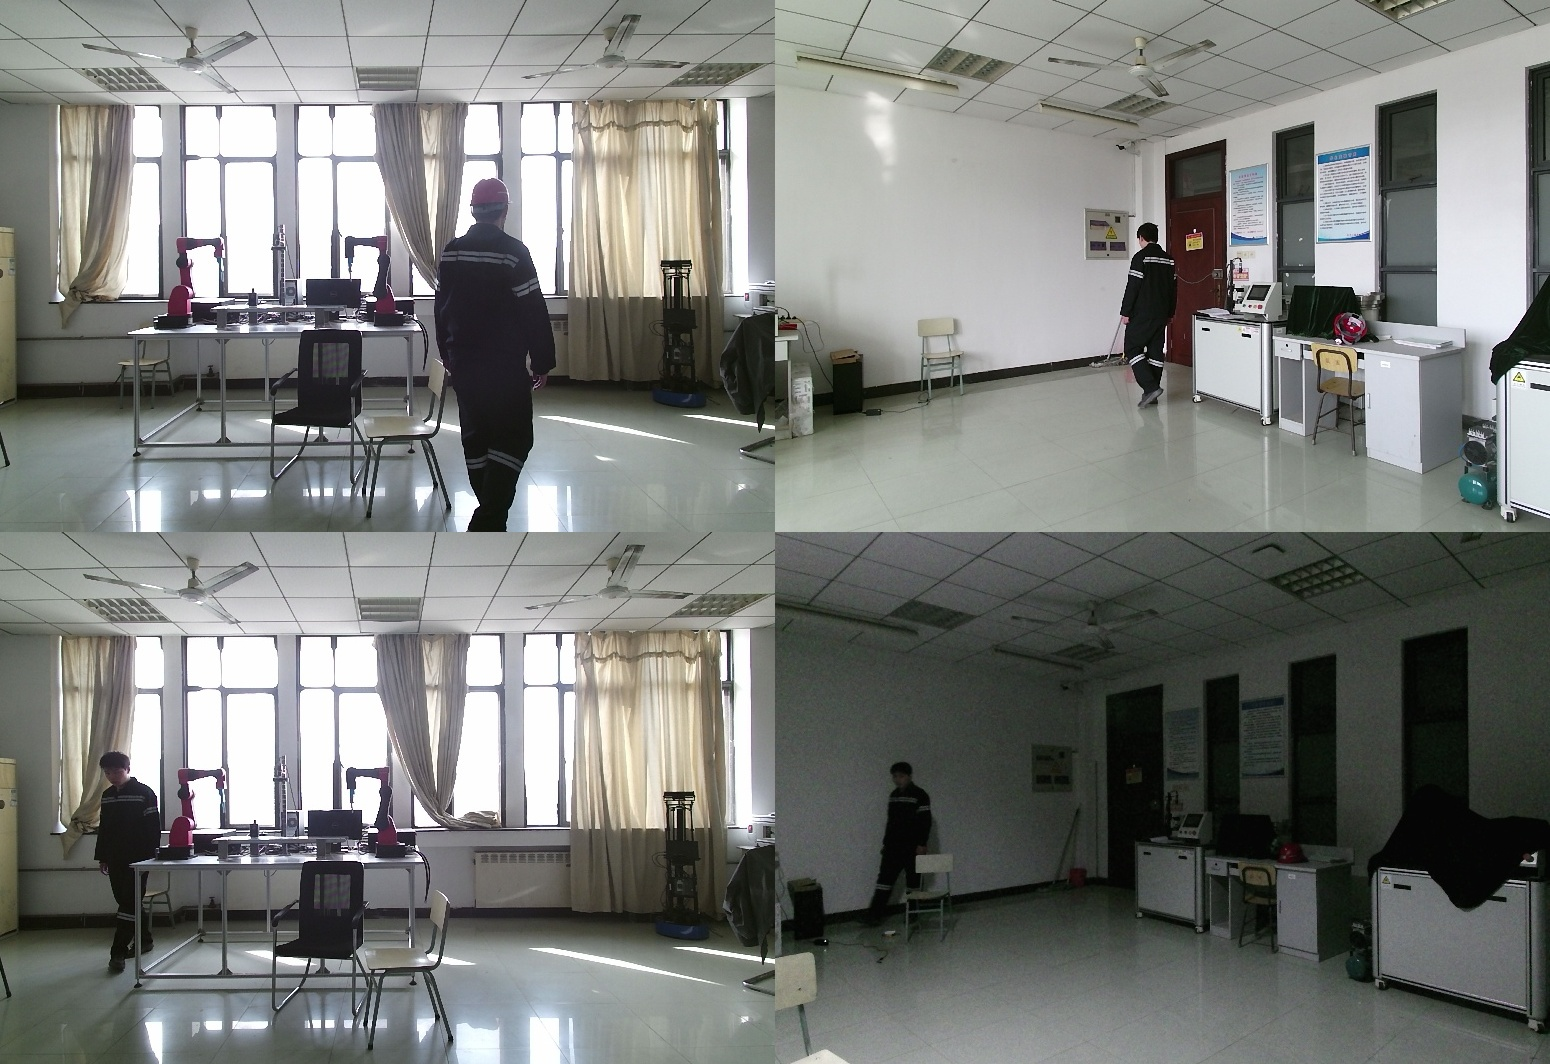person: (434, 178, 564, 532), (90, 752, 166, 969), (1120, 224, 1183, 414), (881, 763, 937, 923)
